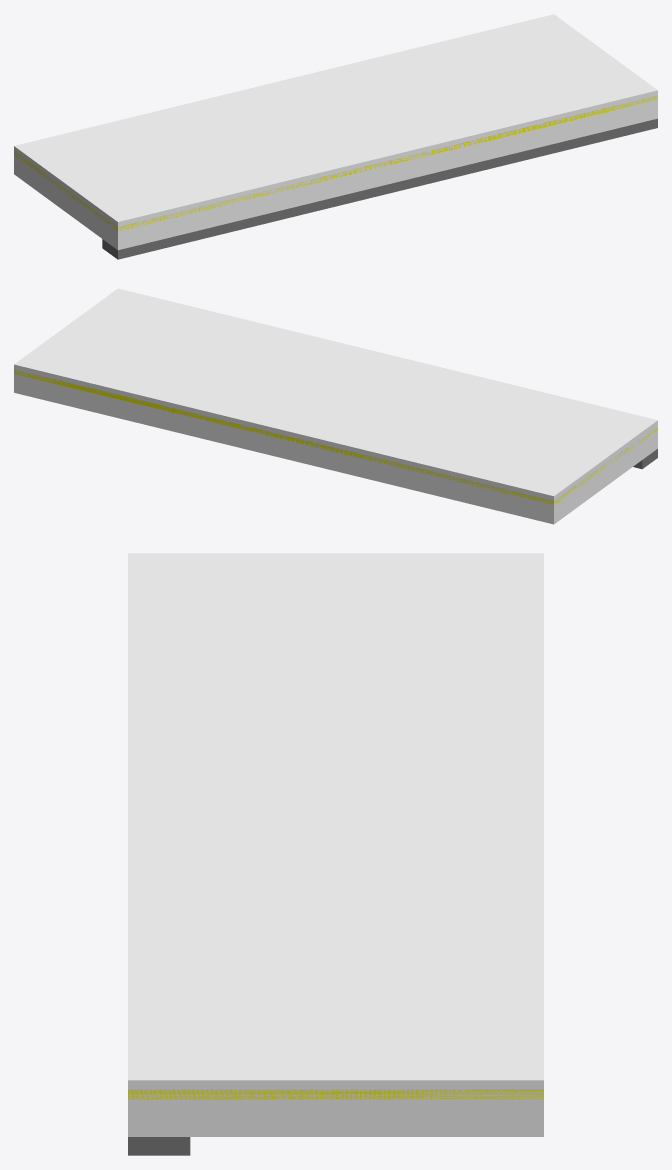
The model's file is Chữ nổi mica chân fomex.obj.
3 renders of one model, top to bottom at view 1: azimuth 30°, elevation 25°; view 2: azimuth 150°, elevation 25°; view 3: azimuth 270°, elevation 25°, orthographic. The views are drawn at different scales.
Visible parts, largest first — view 1: be_mat_bien, khung_sat_do, den_led; view 2: be_mat_bien, den_led; view 3: be_mat_bien, den_led, khung_sat_do.
Boxes of the visible parts, left/top/right/bottom form: be_mat_bien: left=14, top=14, right=657, bottom=250; khung_sat_do: left=102, top=118, right=657, bottom=259; den_led: left=14, top=95, right=657, bottom=231; be_mat_bien: left=14, top=288, right=657, bottom=524; den_led: left=14, top=369, right=657, bottom=505; be_mat_bien: left=128, top=553, right=543, bottom=1136; den_led: left=128, top=1089, right=543, bottom=1099; khung_sat_do: left=128, top=1137, right=190, bottom=1155.
Bounding box in the file's own units: 1.2 × 0.08 × 0.4.
